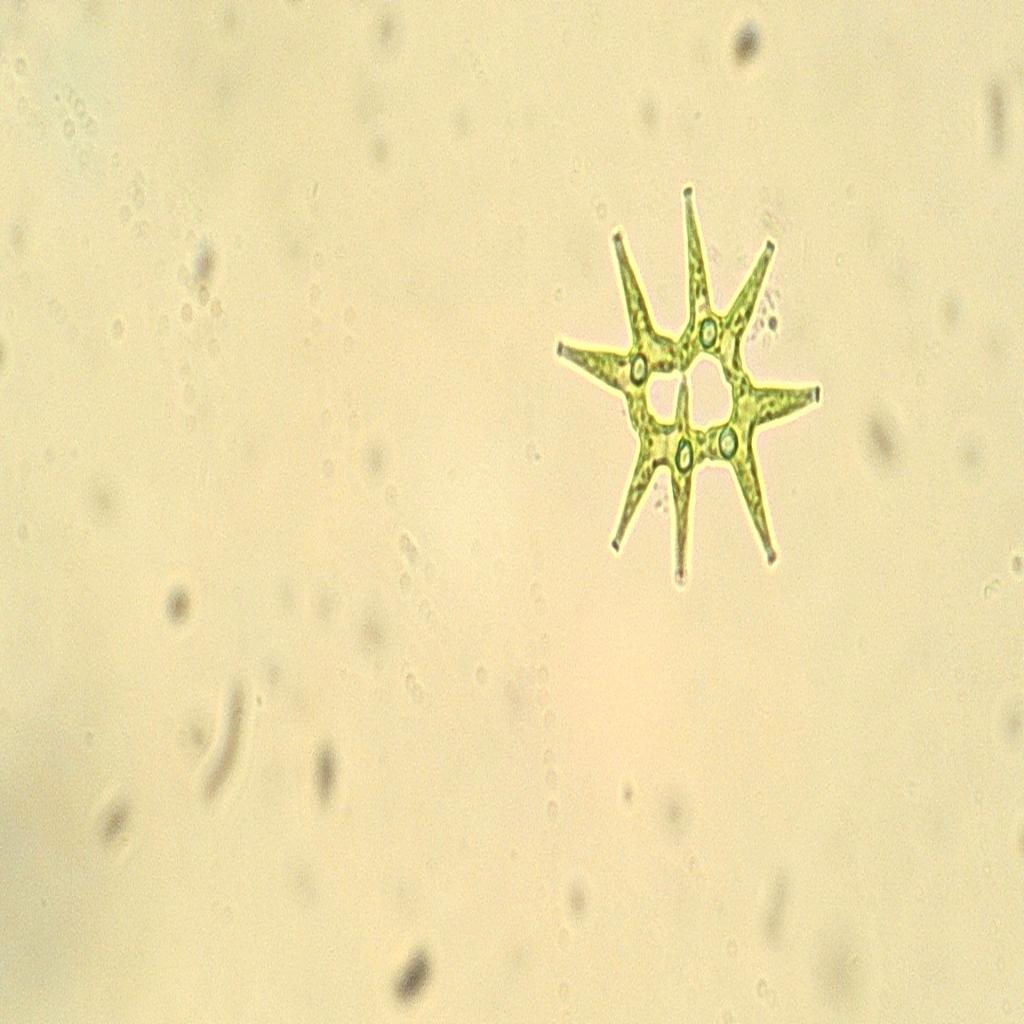Pediastrum_75FO: (517, 140, 861, 623)
